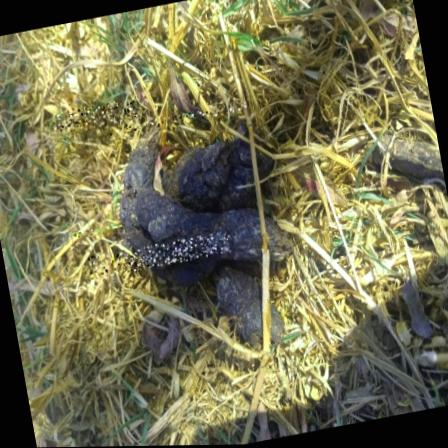dog-poop: (92, 108, 308, 346)
